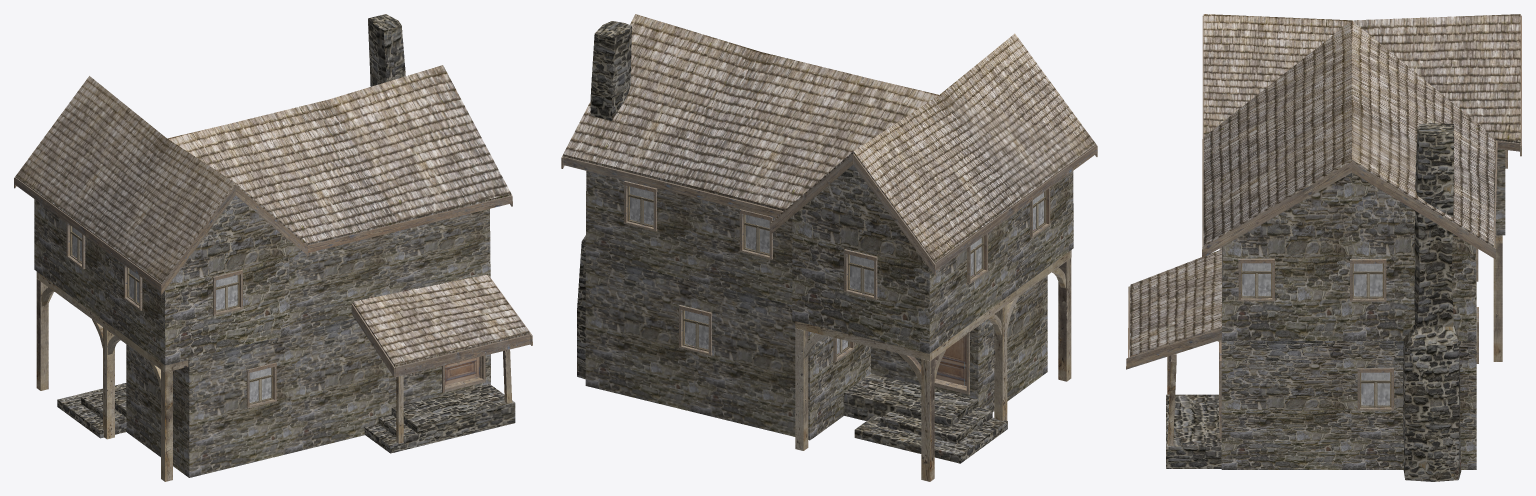
File: stoneHouse2.fbx
3 renders of one model, left to right at view 1: azimuth 30°, elevation 25°; view 2: azimuth 150°, elevation 25°; view 3: azimuth 270°, elevation 25°, orthographic. The views are drawn at different scales.
Visible parts, largest first — view 1: roof, second floor, base, awning, steps, door.back; view 2: roof, base, second floor, steps, door.front; view 3: roof, base, second floor, awning, steps.
Boxes of the visible parts, box(x1,y1,x2,y2) form: roof: box(14, 65, 512, 295); second floor: box(34, 195, 490, 372); base: box(36, 14, 490, 481); awning: box(351, 274, 532, 443); steps: box(57, 383, 515, 453); door.back: box(445, 357, 479, 385); roof: box(561, 14, 1097, 275); base: box(577, 21, 1071, 481); second floor: box(585, 165, 1073, 360); steps: box(843, 373, 1007, 463); door.front: box(935, 335, 966, 385); roof: box(1202, 14, 1521, 259); base: box(1219, 123, 1502, 481); second floor: box(1221, 149, 1507, 340); awning: box(1126, 249, 1221, 445); steps: box(1166, 394, 1221, 468).
Size of the model in its own units: 16.67 by 13.94 by 14.74.
